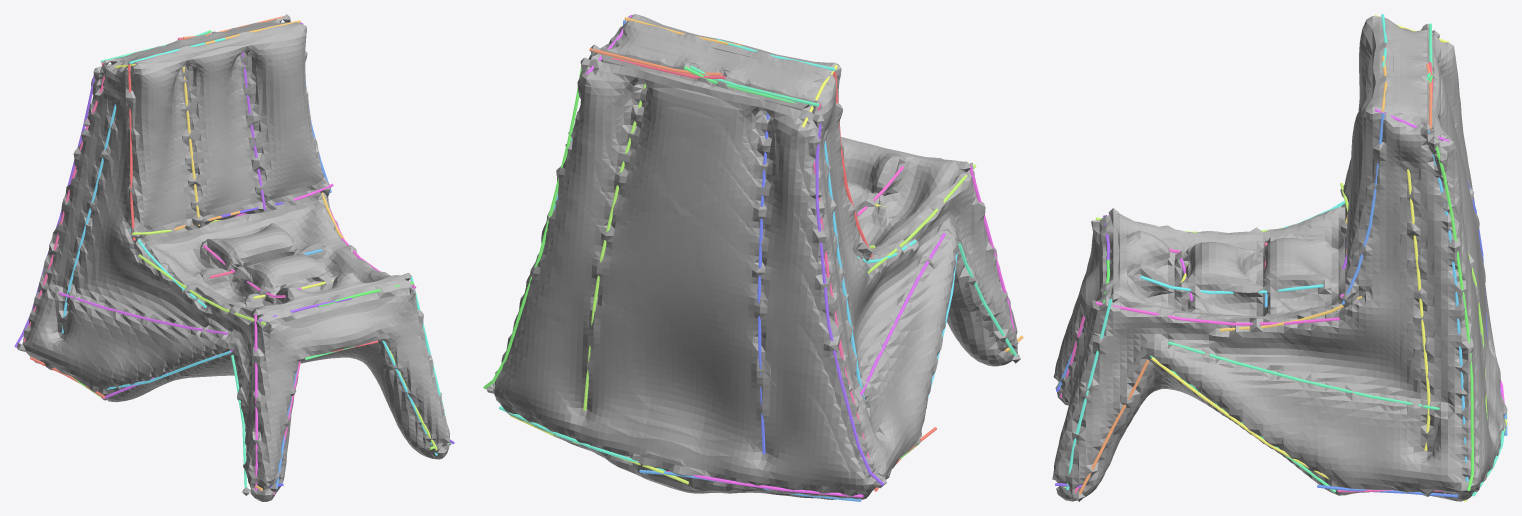
File: author1_chair_ff.gltf
3 views of the same model, side by side, from view 1: azimuth 30°, elevation 25°; view 2: azimuth 150°, elevation 25°; view 3: azimuth 270°, elevation 25° (orthographic). The views are drawn at different scales.
Size of the model in its own units: 0.5763 by 0.575 by 0.6053.
